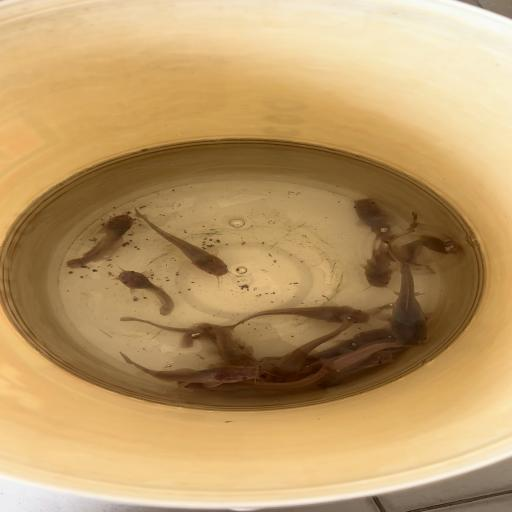lele: (133, 207, 235, 276), (264, 318, 356, 384), (121, 317, 253, 357), (177, 359, 336, 392), (259, 328, 392, 364), (117, 351, 261, 384), (315, 338, 405, 386), (225, 305, 370, 332), (66, 213, 134, 270), (181, 322, 261, 368), (388, 258, 429, 347), (383, 237, 466, 274), (352, 199, 418, 243), (118, 268, 174, 317), (303, 349, 396, 370), (361, 247, 407, 289)
